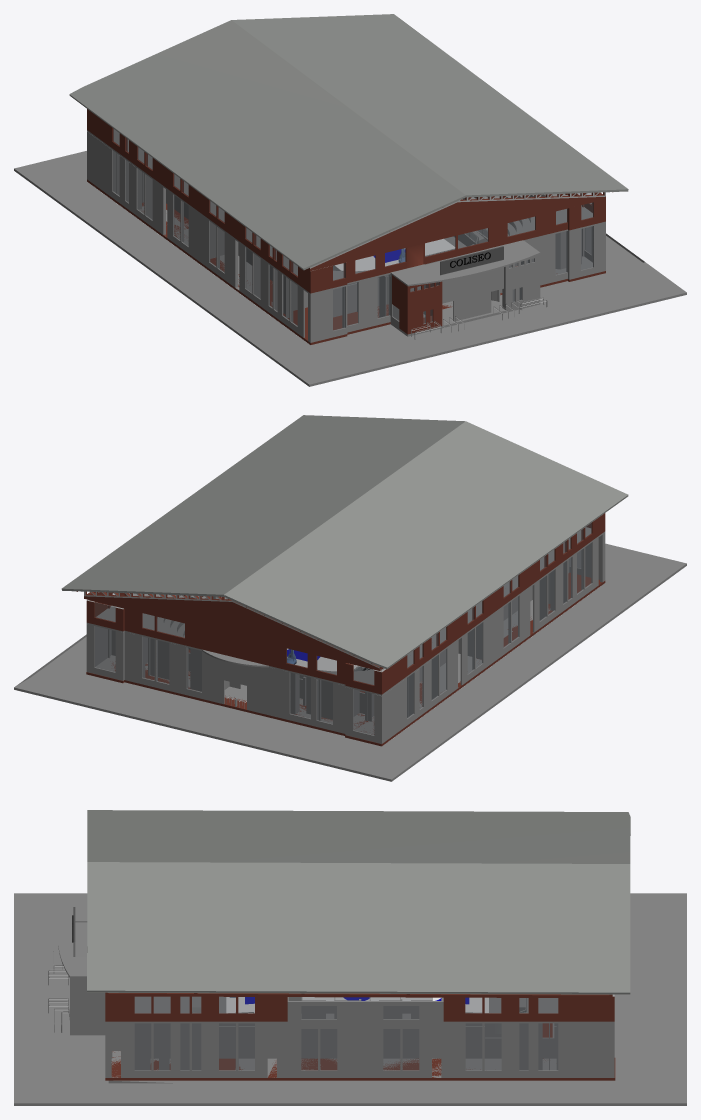
Rendered from educacion-coliseo.glb.
The picture shows the model from 3 angles, top to bottom: view 1: azimuth 30°, elevation 25°; view 2: azimuth 150°, elevation 25°; view 3: azimuth 270°, elevation 25°; orthographic projection. The views are drawn at different scales.
Parts seen in each view (by area): view 1: COLISEO 2; view 2: COLISEO 2; view 3: COLISEO 2.
Boxes of the visible parts, x1,y1,x2,y2 form: COLISEO 2: [14, 14, 686, 386]; COLISEO 2: [14, 415, 686, 781]; COLISEO 2: [14, 810, 686, 1105].
Bounding box in the file's own units: 53.22 × 16.42 × 72.09.
Materials: 3 (3 with a texture image).
